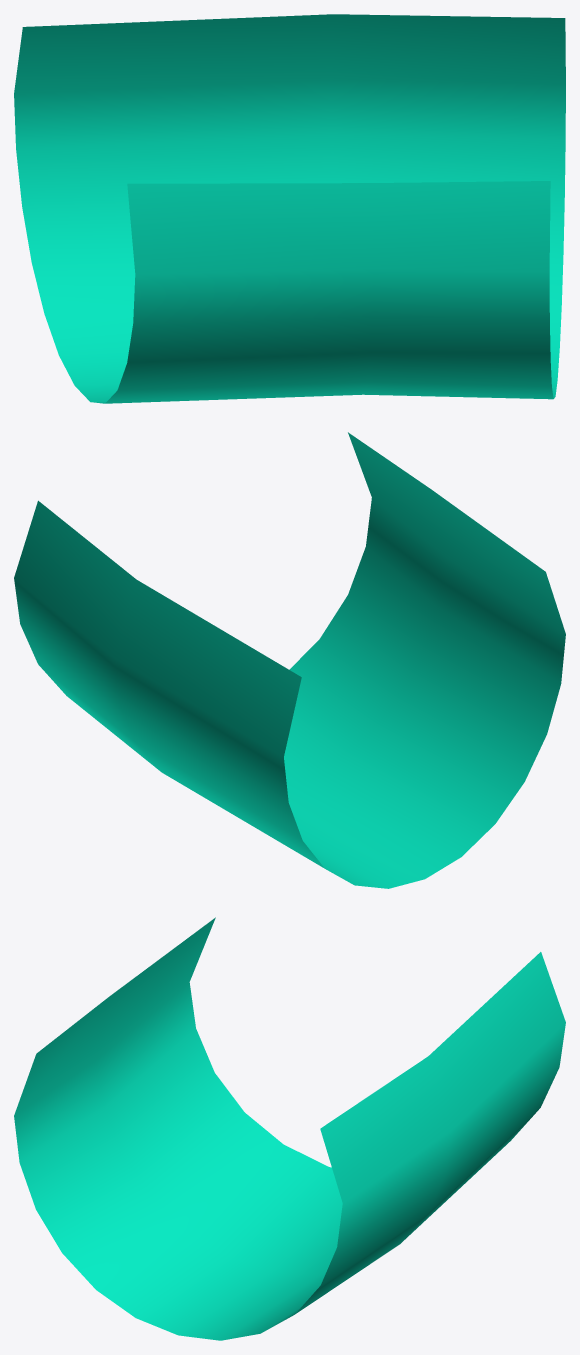
The model's file is Pipe_Collider_Turn_E.fbx.
3 views of the same model, one above another, from view 1: azimuth 30°, elevation 25°; view 2: azimuth 150°, elevation 25°; view 3: azimuth 270°, elevation 25° (orthographic). The views are drawn at different scales.
Parts seen in each view (by area): view 1: Pipe_Collider_Turn_E; view 2: Pipe_Collider_Turn_E; view 3: Pipe_Collider_Turn_E.
Boxes of the visible parts, x1,y1,x2,y2 form: Pipe_Collider_Turn_E: (14, 14, 565, 403); Pipe_Collider_Turn_E: (14, 432, 565, 888); Pipe_Collider_Turn_E: (14, 917, 565, 1340).
Size of the model in its own units: 4.58 by 2.36 by 4.83.
